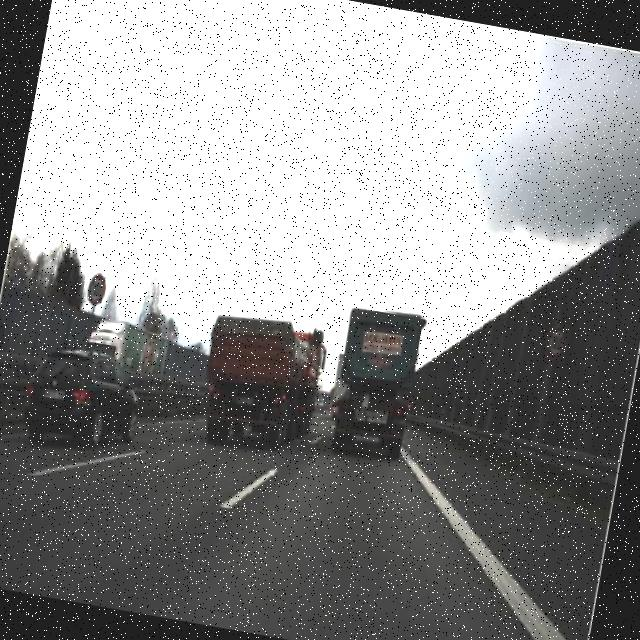Ograniczenie predkosci do 100: (540, 319, 574, 364), (84, 268, 110, 306)
